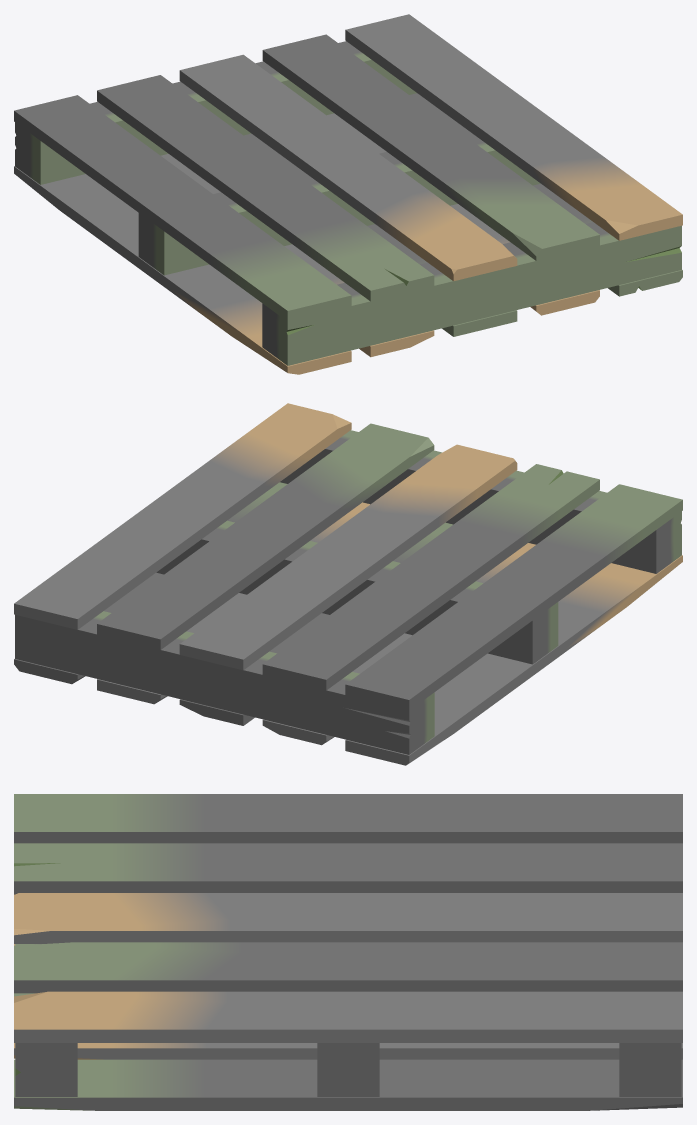
File: Pallet_02.fbx
3 renders of one model, top to bottom at view 1: azimuth 30°, elevation 25°; view 2: azimuth 150°, elevation 25°; view 3: azimuth 270°, elevation 25°, orthographic. The views are drawn at different scales.
Visible parts, largest first — view 1: Pallet_02; view 2: Pallet_02; view 3: Pallet_02.
Boxes of the visible parts, x1,y1,x2,y2 form: Pallet_02: (14, 14, 682, 374); Pallet_02: (14, 403, 682, 765); Pallet_02: (14, 794, 682, 1110).
Bounding box in the file's own units: 125 × 20.09 × 150.
